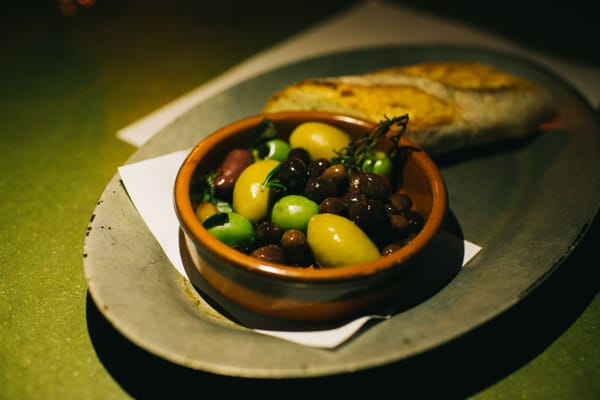pasta: (261, 61, 558, 152)
sushi: (172, 111, 450, 326)
